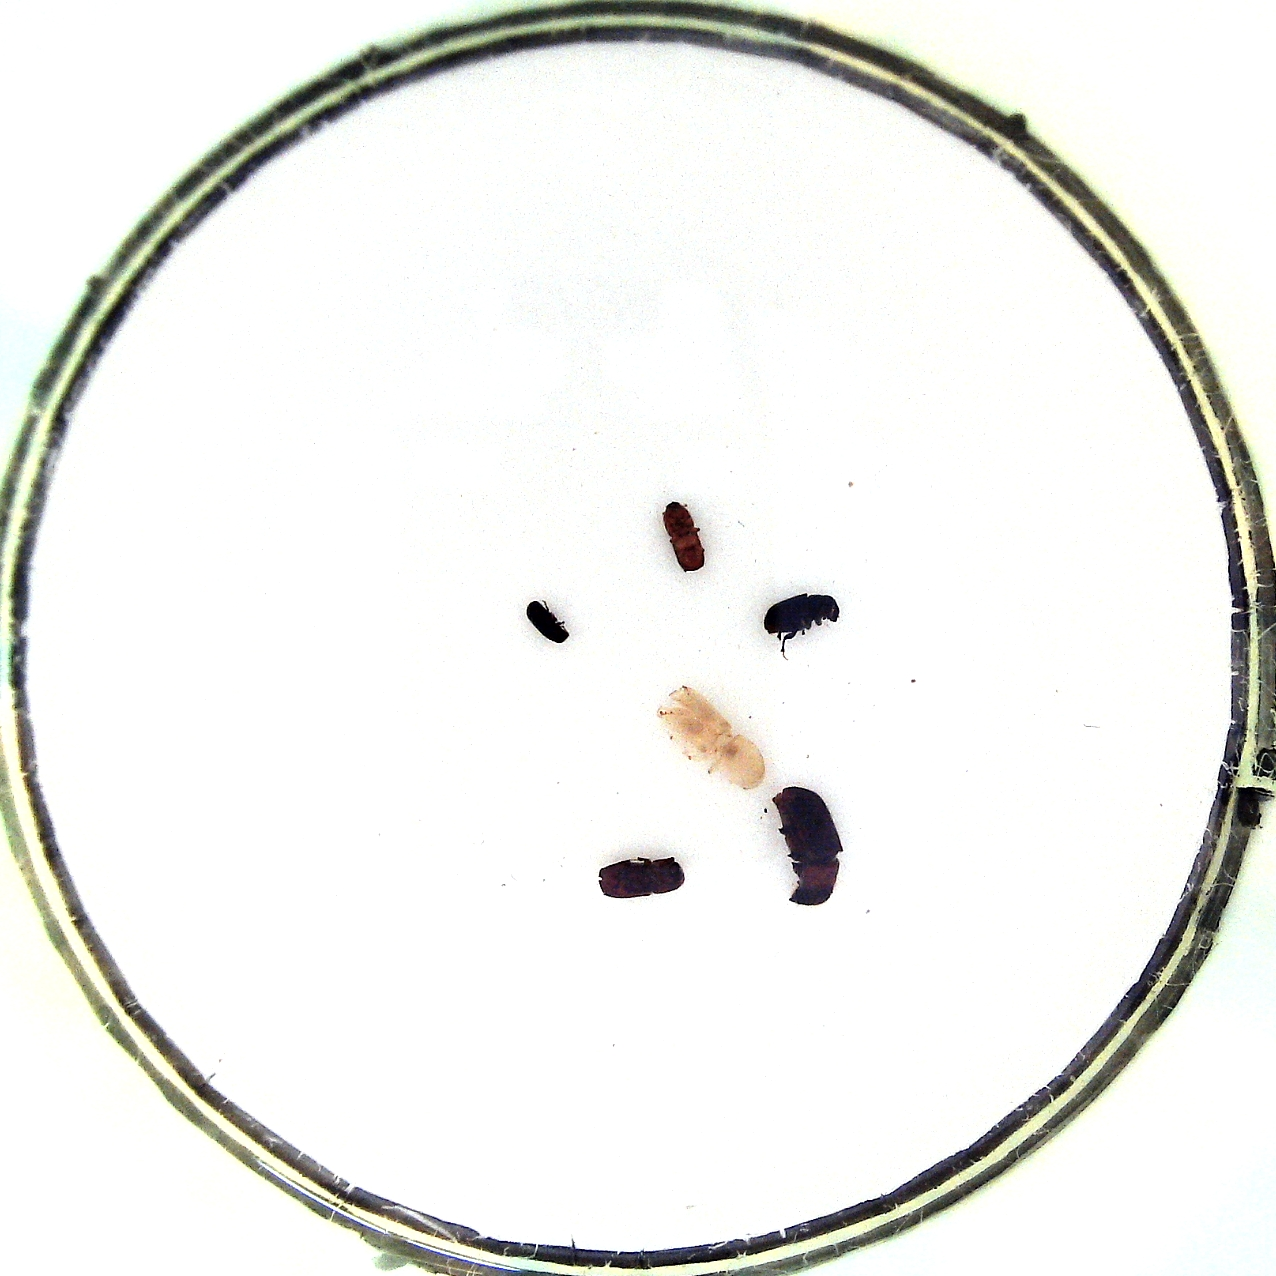Boerner: (657, 687, 765, 791)
Leconte: (768, 783, 845, 913)
Linnaeus: (596, 854, 694, 903)
acuminatus: (657, 495, 709, 580)
armandi: (762, 587, 847, 652)
coleoptera: (519, 592, 578, 646)
